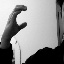c: (6, 4, 28, 31)
